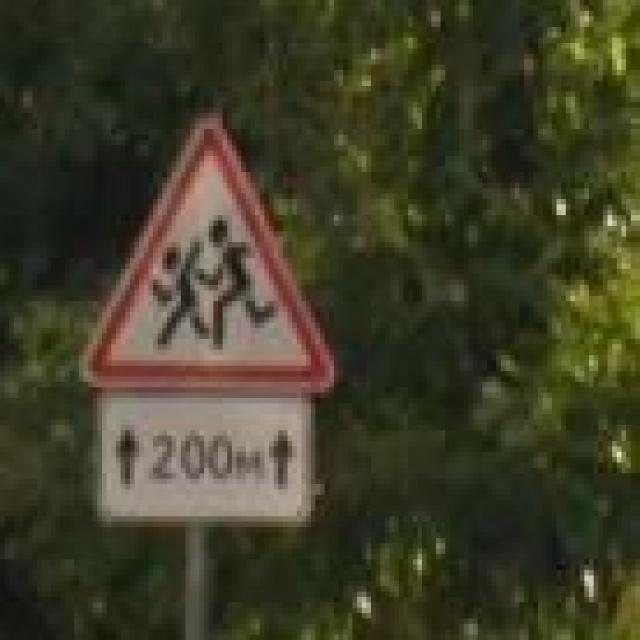traffic_sign: (79, 118, 334, 393)
